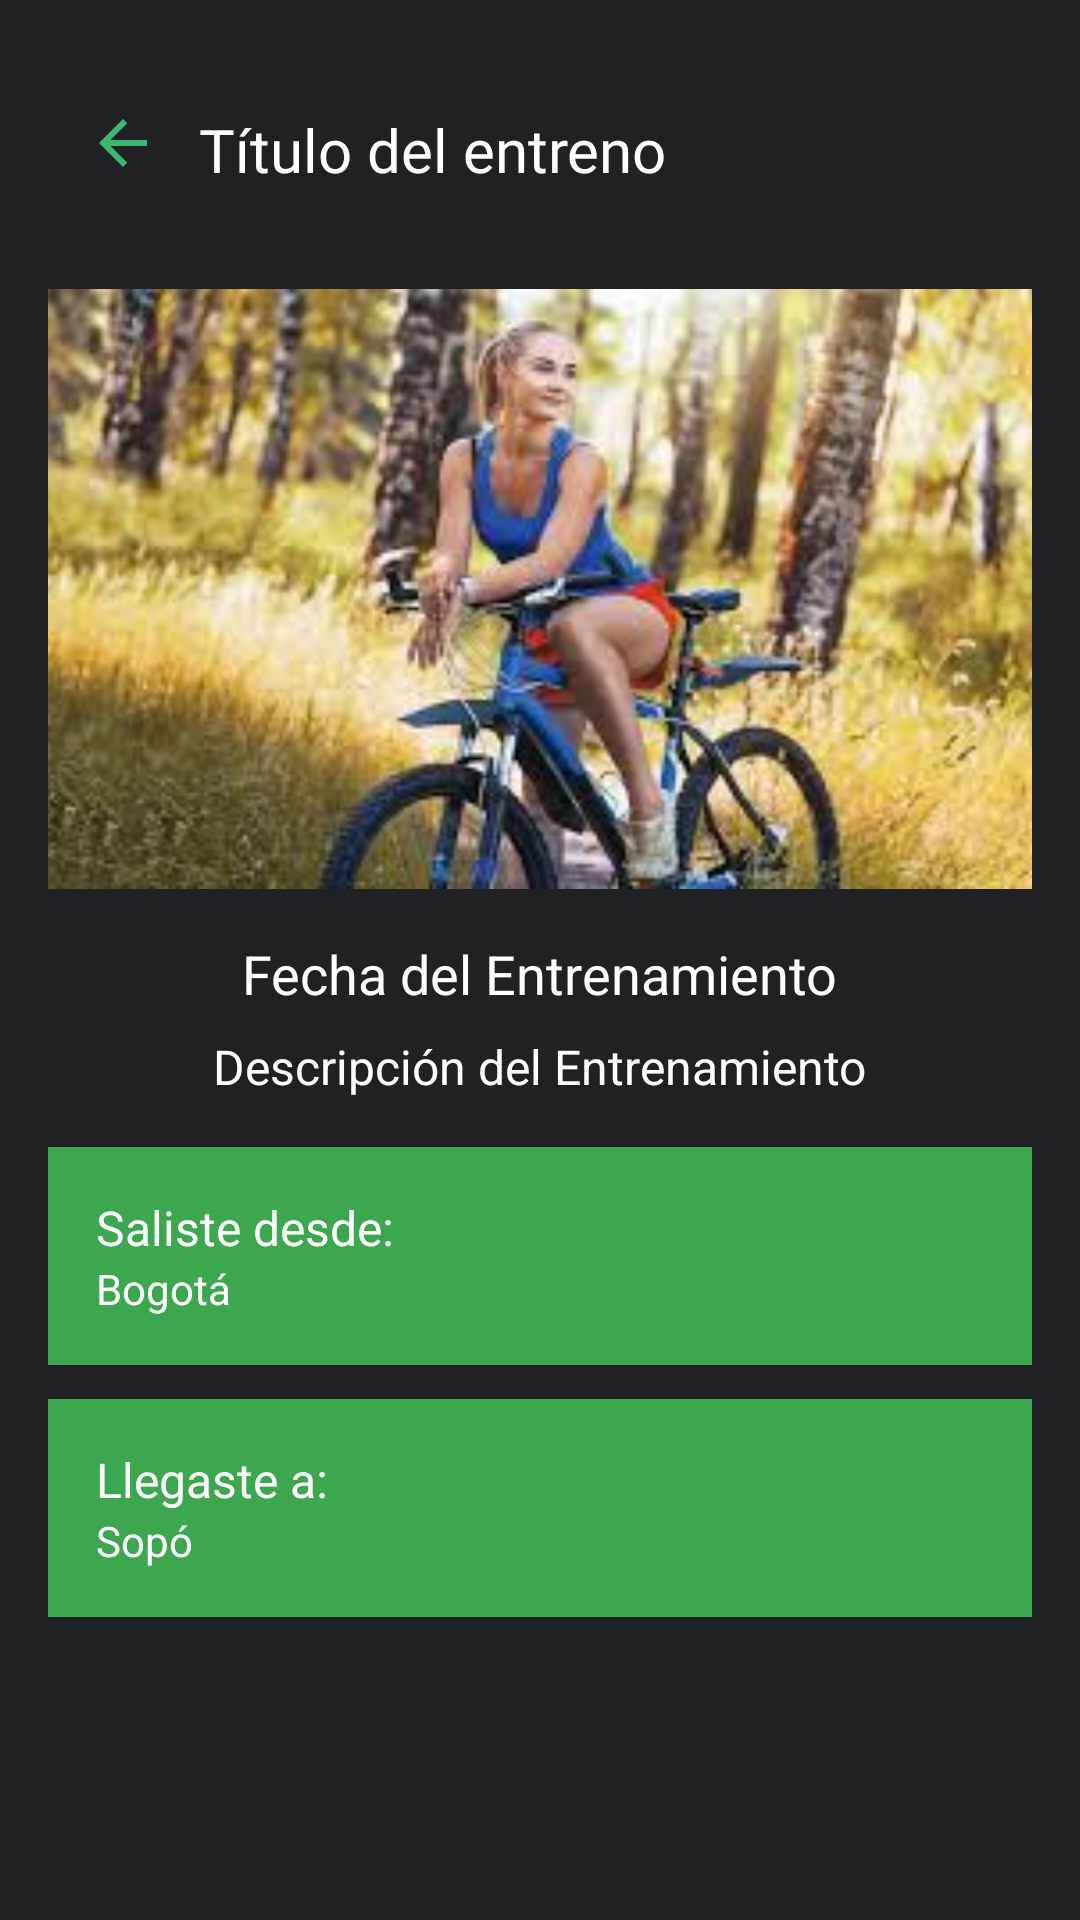

Icon bounding boxes for this 1080x1920 phone screenshot, format (x1, y1, x2, y2):
Volver: (99, 119, 147, 167)
